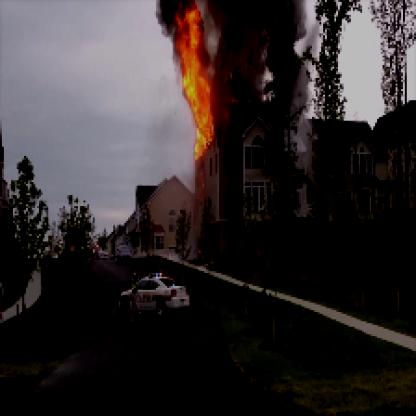Fire: (173, 2, 215, 161)
Smoke: (206, 2, 308, 117)
